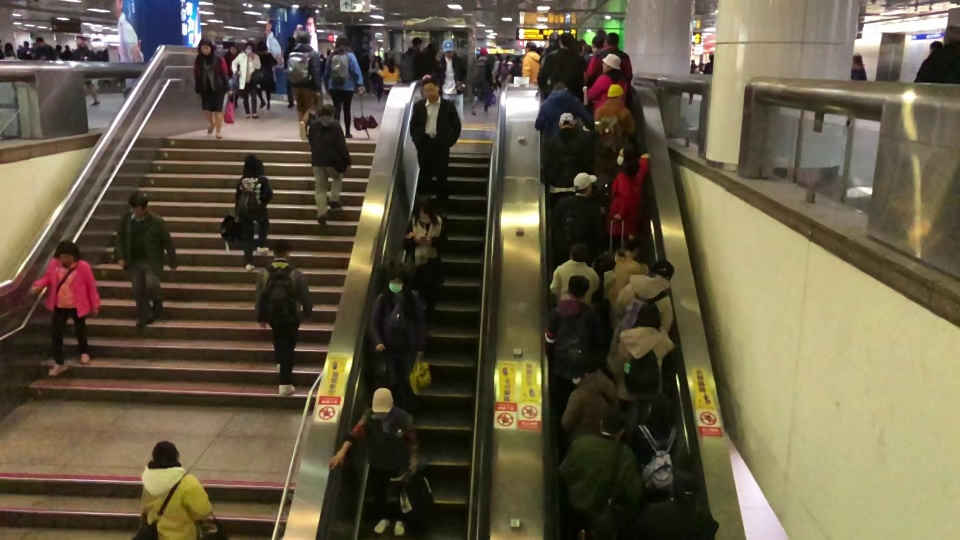person_head: (670, 468, 698, 504), (599, 409, 626, 438), (53, 238, 81, 264), (370, 386, 394, 416), (571, 170, 598, 196), (566, 274, 592, 301), (649, 393, 674, 420), (637, 302, 660, 331), (126, 189, 148, 218), (151, 440, 180, 462), (578, 349, 604, 373), (384, 266, 407, 293), (616, 143, 639, 170), (651, 257, 675, 281), (412, 195, 433, 221), (241, 153, 264, 176), (420, 77, 441, 100), (601, 53, 622, 75), (272, 237, 291, 259), (548, 73, 568, 92), (605, 82, 625, 101), (570, 240, 588, 260), (623, 236, 641, 255), (943, 25, 959, 46), (441, 37, 456, 58), (558, 112, 574, 129), (197, 38, 214, 53), (605, 30, 620, 47), (319, 102, 335, 117), (558, 33, 574, 48), (334, 33, 348, 47), (591, 35, 604, 50), (299, 30, 310, 45), (852, 53, 863, 67), (929, 39, 940, 53), (257, 40, 268, 52), (426, 43, 435, 56), (229, 44, 239, 55), (243, 42, 253, 53), (525, 42, 536, 52), (411, 36, 420, 48), (76, 36, 85, 46), (385, 55, 394, 65), (287, 35, 295, 46), (478, 47, 487, 56), (5, 42, 12, 53), (37, 36, 43, 47), (708, 53, 713, 62), (691, 58, 693, 64)
person_vbox: (329, 386, 418, 537), (30, 239, 100, 378), (559, 407, 639, 526), (111, 189, 178, 328), (255, 237, 313, 397), (605, 258, 674, 372), (609, 301, 676, 411), (140, 440, 213, 540), (369, 265, 426, 391), (409, 77, 462, 201), (544, 274, 600, 380), (401, 194, 448, 318), (307, 102, 352, 227), (560, 347, 619, 438), (645, 468, 719, 540), (607, 142, 652, 249), (235, 153, 274, 273), (632, 394, 678, 493), (552, 171, 603, 256), (593, 85, 635, 188), (323, 33, 363, 140), (544, 112, 589, 203), (286, 29, 321, 142), (194, 37, 233, 138), (533, 73, 592, 139), (603, 235, 649, 312), (548, 240, 599, 309), (437, 36, 466, 137), (583, 53, 627, 113), (231, 41, 263, 120), (585, 31, 633, 83), (543, 33, 584, 88), (924, 25, 960, 84), (73, 36, 100, 106), (845, 51, 866, 129), (470, 48, 493, 117), (257, 39, 278, 110), (399, 36, 423, 81), (283, 34, 297, 109), (376, 55, 400, 93), (522, 42, 540, 84), (423, 41, 439, 76), (36, 37, 54, 59), (689, 56, 696, 103), (703, 52, 715, 74)
